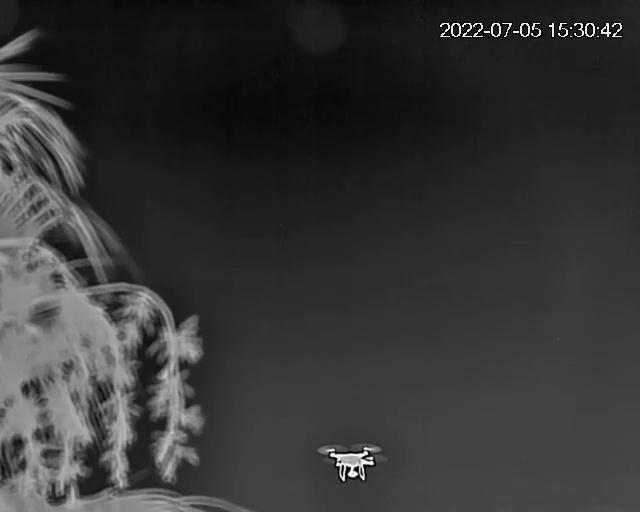DJI-Phantom: (315, 442, 387, 486)
